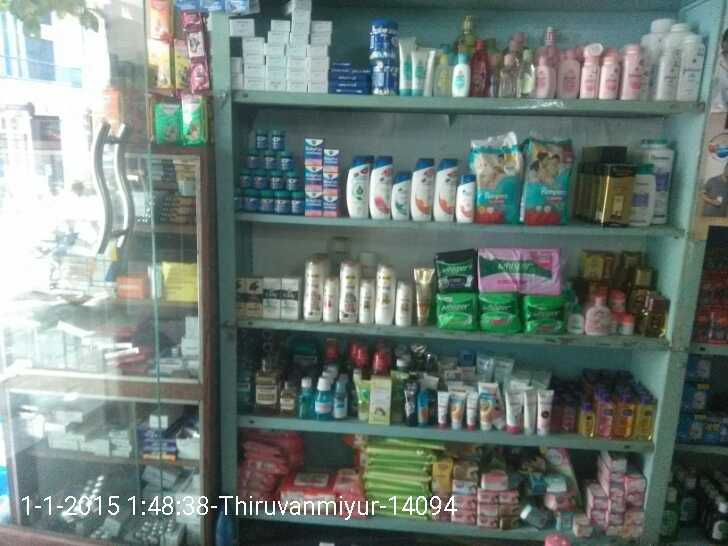vicks: (234, 120, 341, 219)
